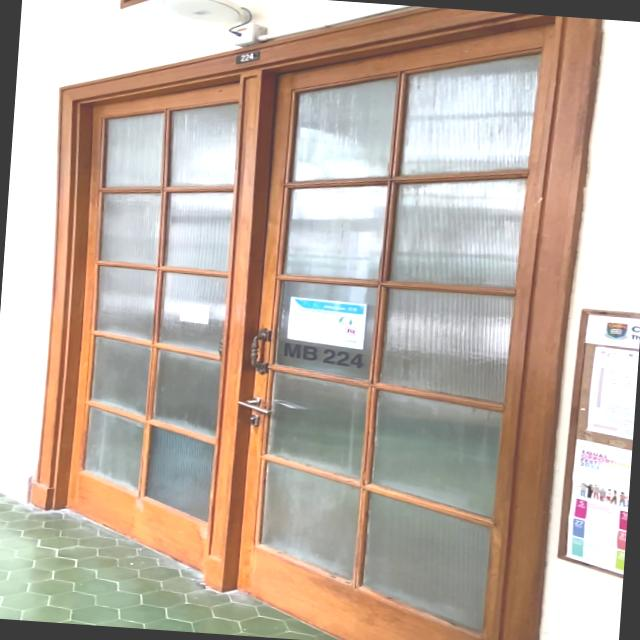room224: (230, 47, 264, 66)
room224Window: (280, 341, 366, 374)
